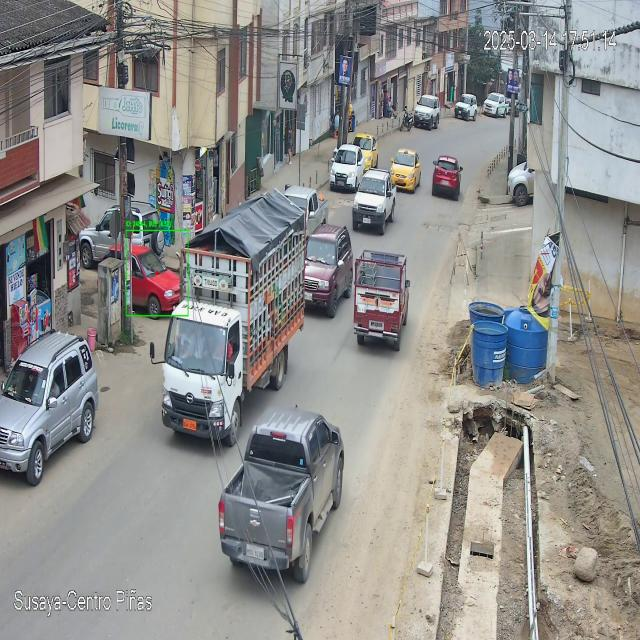CMT: (218, 410, 344, 584), (352, 253, 408, 353), (353, 170, 395, 235)
SUV: (305, 227, 352, 318)
TRUCK: (162, 192, 306, 448)
